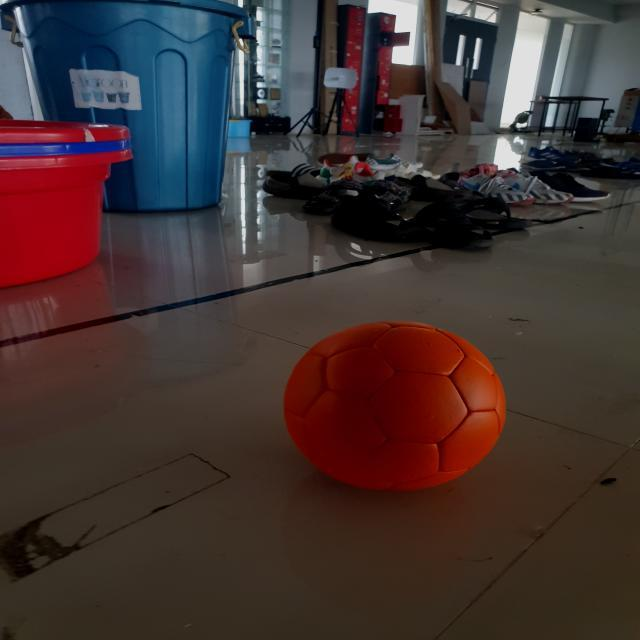bola: (267, 307, 524, 500)
